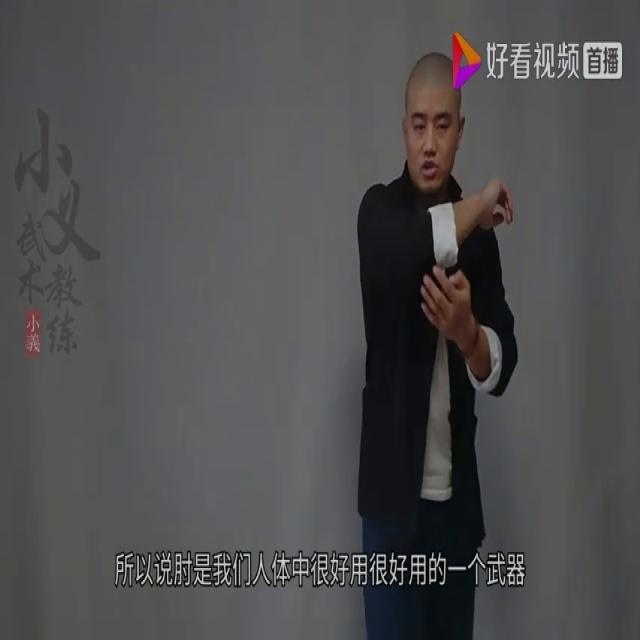non-fight: (342, 41, 528, 620)
